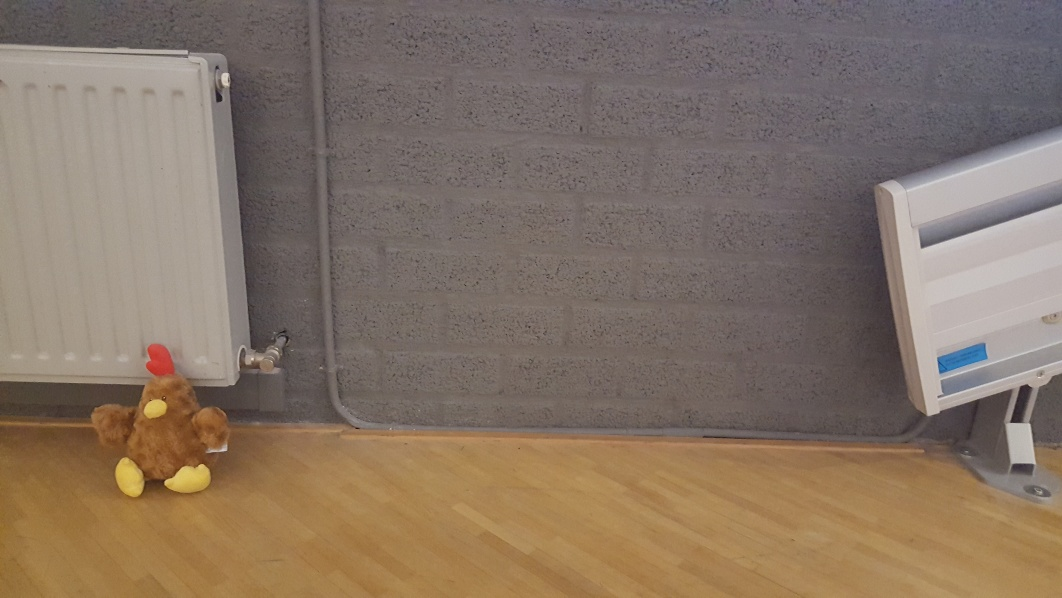chicken: (93, 344, 231, 498)
